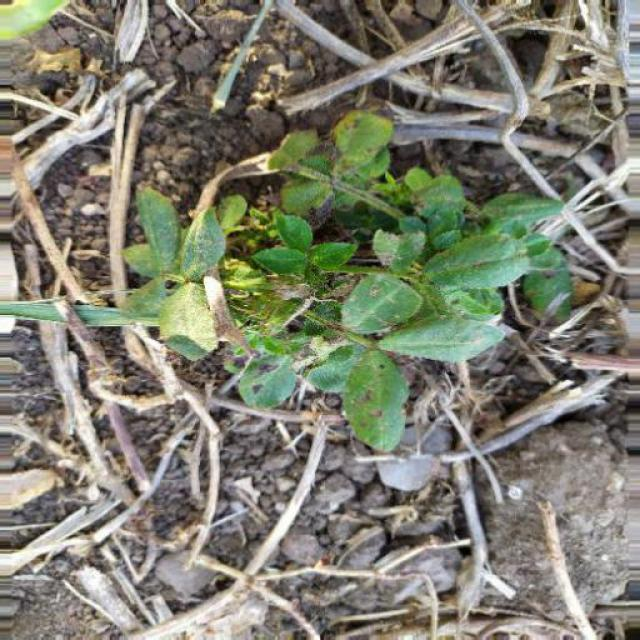weed: (124, 108, 578, 450)
